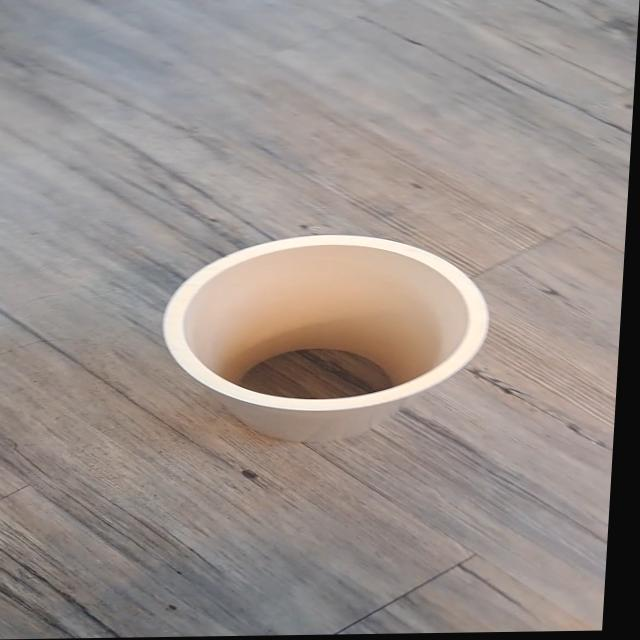CORAL: (113, 198, 518, 452)
